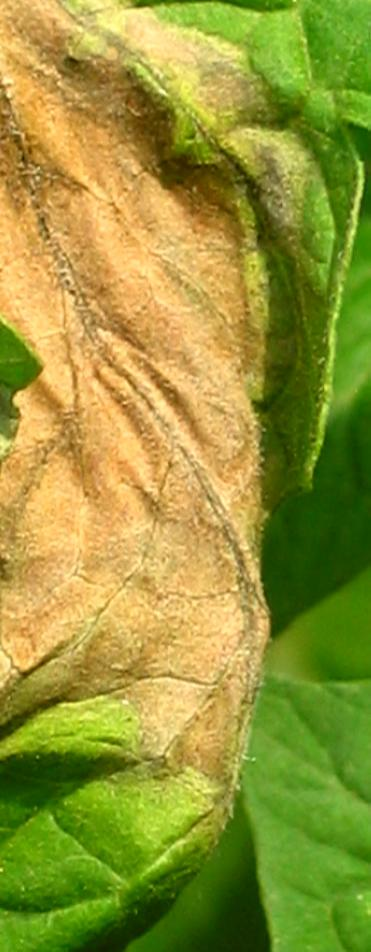Tomato leaf late blight: (0, 0, 371, 939)
